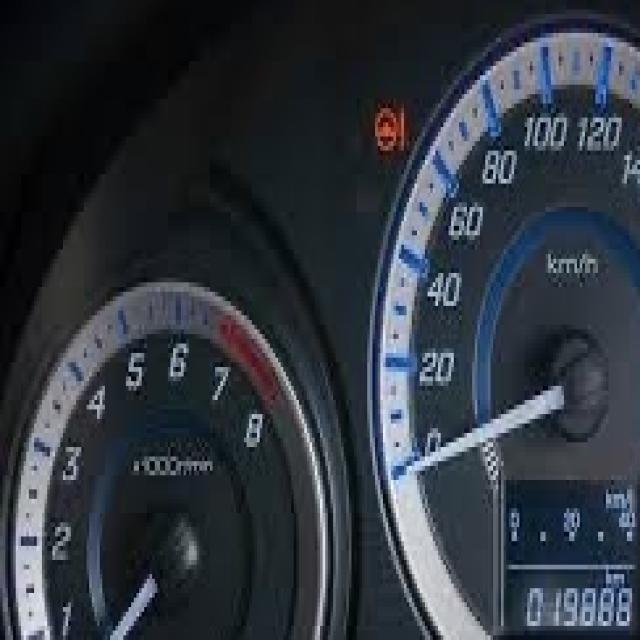Electronic Power Steering: (366, 105, 409, 155)
